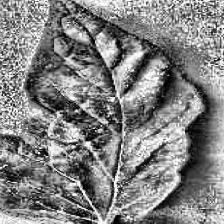spider mites: (0, 0, 201, 224)
